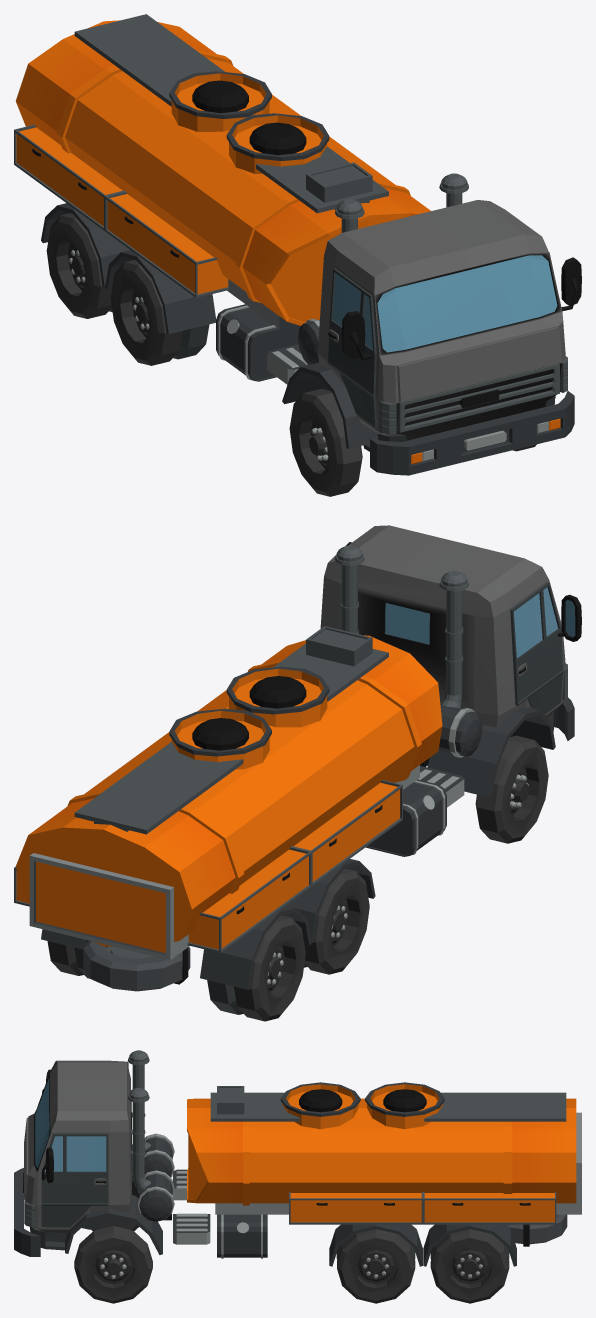
Rendered from kamaz_fuel_truck_black.fbx.
3 renders of one model, top to bottom at view 1: azimuth 30°, elevation 25°; view 2: azimuth 150°, elevation 25°; view 3: azimuth 270°, elevation 25°, orthographic. The views are drawn at different scales.
Parts seen in each view (by area): view 1: Cube.047; view 2: Cube.047; view 3: Cube.047.
Boxes of the visible parts, x1,y1,x2,y2 form: Cube.047: (14, 14, 581, 496); Cube.047: (14, 525, 581, 1021); Cube.047: (14, 1050, 581, 1303).
Bounding box in the file's own units: 281 × 301 × 790.
1 material, 1 textured.
